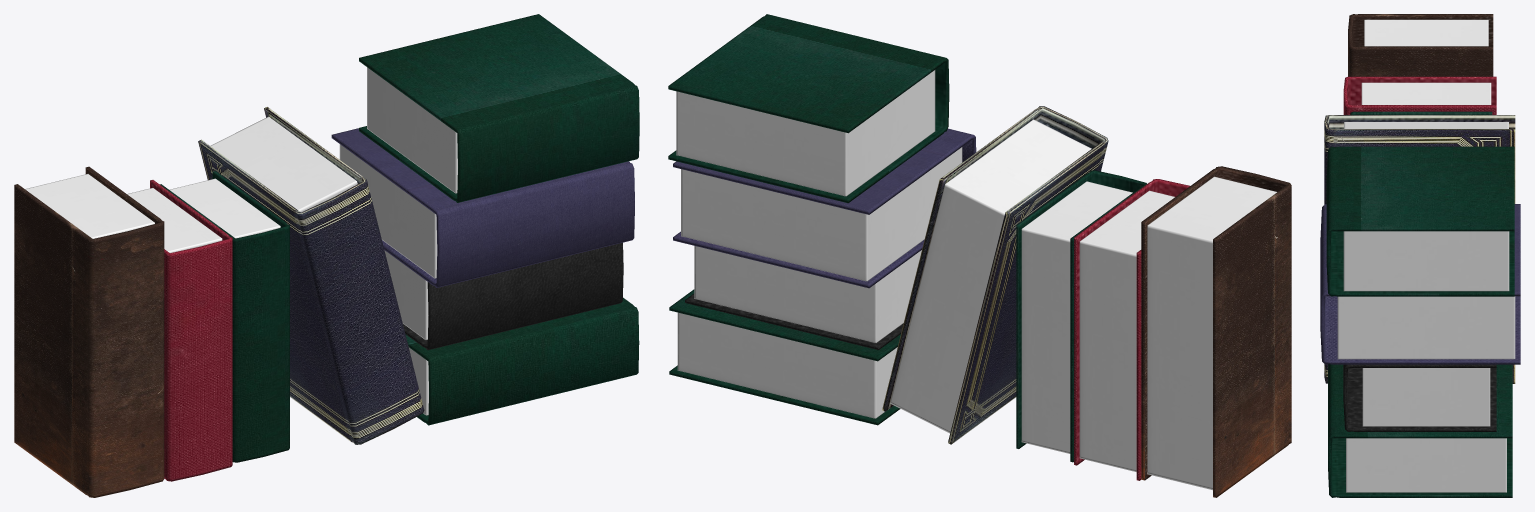
File: Books_002.fbx
3 views of the same model, side by side, from view 1: azimuth 30°, elevation 25°; view 2: azimuth 150°, elevation 25°; view 3: azimuth 270°, elevation 25° (orthographic). The views are drawn at different scales.
Parts seen in each view (by area): view 1: book.029, book.034, book.033, book.035, book.030, book.037, book.032, book.036; view 2: book.029, book.034, book.033, book.035, book.030, book.032, book.037, book.036; view 3: book.034, book.035, book.037, book.036, book.029, book.033, book.030, book.032.
Part boxes in pixels (left/top/right/bottom): book.029: left=14, top=166, right=164, bottom=497; book.034: left=359, top=14, right=639, bottom=202; book.033: left=198, top=107, right=424, bottom=444; book.035: left=331, top=128, right=634, bottom=287; book.030: left=127, top=180, right=232, bottom=481; book.037: left=405, top=297, right=639, bottom=425; book.032: left=160, top=171, right=289, bottom=462; book.036: left=384, top=242, right=623, bottom=350; book.029: left=1141, top=166, right=1291, bottom=497; book.034: left=668, top=14, right=949, bottom=203; book.033: left=882, top=106, right=1108, bottom=444; book.035: left=673, top=128, right=976, bottom=288; book.030: left=1074, top=179, right=1189, bottom=480; book.032: left=1016, top=170, right=1146, bottom=462; book.037: left=669, top=289, right=900, bottom=425; book.036: left=685, top=246, right=921, bottom=350; book.034: left=1326, top=146, right=1514, bottom=296; book.035: left=1320, top=204, right=1520, bottom=364; book.037: left=1328, top=364, right=1512, bottom=497; book.036: left=1343, top=364, right=1496, bottom=431; book.029: left=1348, top=14, right=1493, bottom=76; book.033: left=1324, top=115, right=1515, bottom=383; book.030: left=1343, top=76, right=1496, bottom=114; book.032: left=1350, top=111, right=1492, bottom=114.
Bounding box in the file's own units: 84.28 × 43.43 × 29.23.
